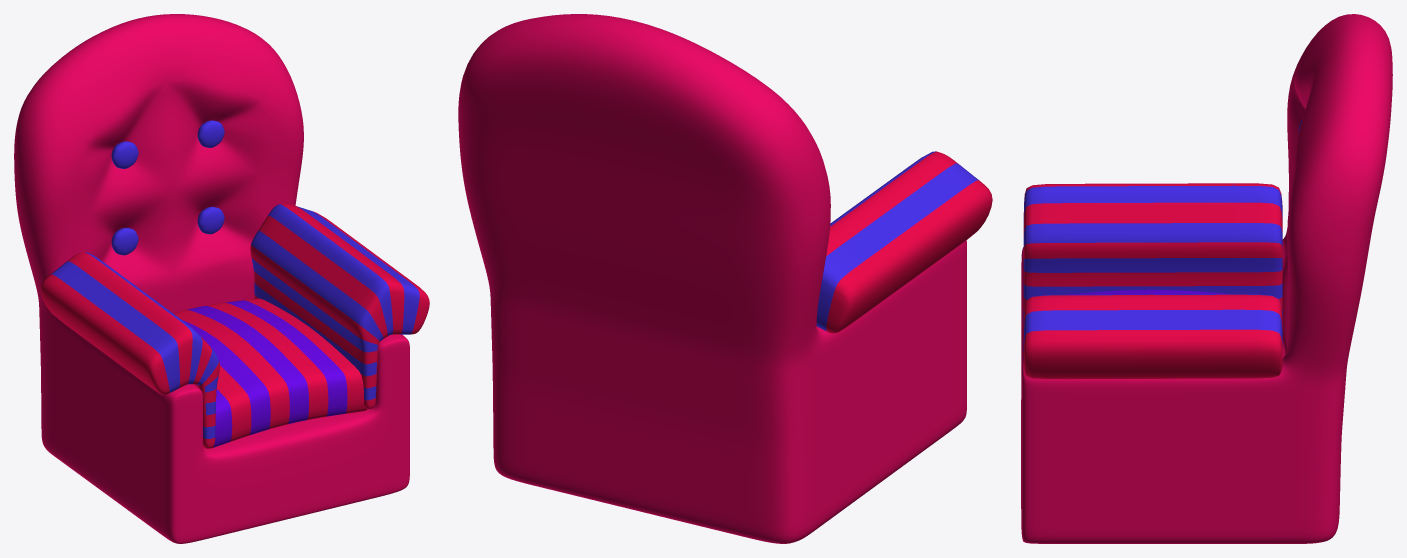
The model's file is chair.fbx.
3 renders of one model, left to right at view 1: azimuth 30°, elevation 25°; view 2: azimuth 150°, elevation 25°; view 3: azimuth 270°, elevation 25°, orthographic. The views are drawn at different scales.
Visible parts, largest first — view 1: Plane; view 2: Plane; view 3: Plane.
Part boxes in pixels (x1,y1,x2,y2): Plane: (14,14,429,543); Plane: (458,14,992,543); Plane: (1021,14,1392,543).
Size of the model in its own units: 233 by 310 by 234.
